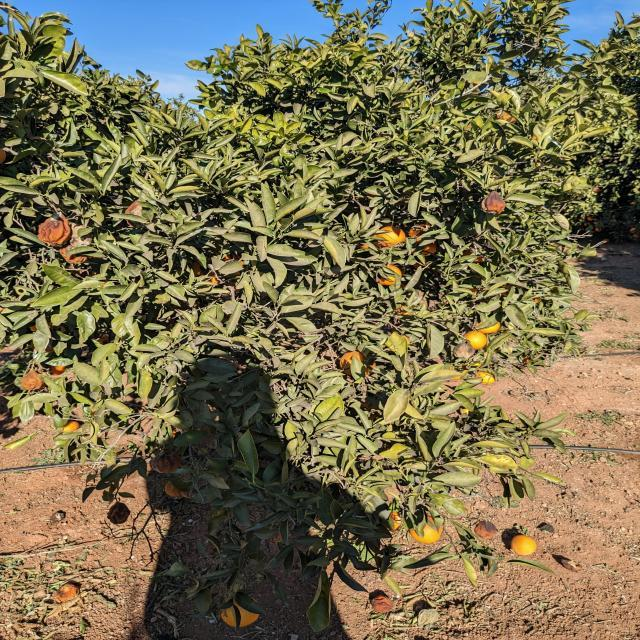Jeruk Sudah Matang: (220, 594, 262, 628), (340, 352, 380, 376), (412, 516, 442, 544), (372, 226, 406, 246), (377, 264, 404, 286), (463, 332, 488, 348), (474, 318, 500, 332), (407, 224, 432, 236), (423, 246, 437, 254)
